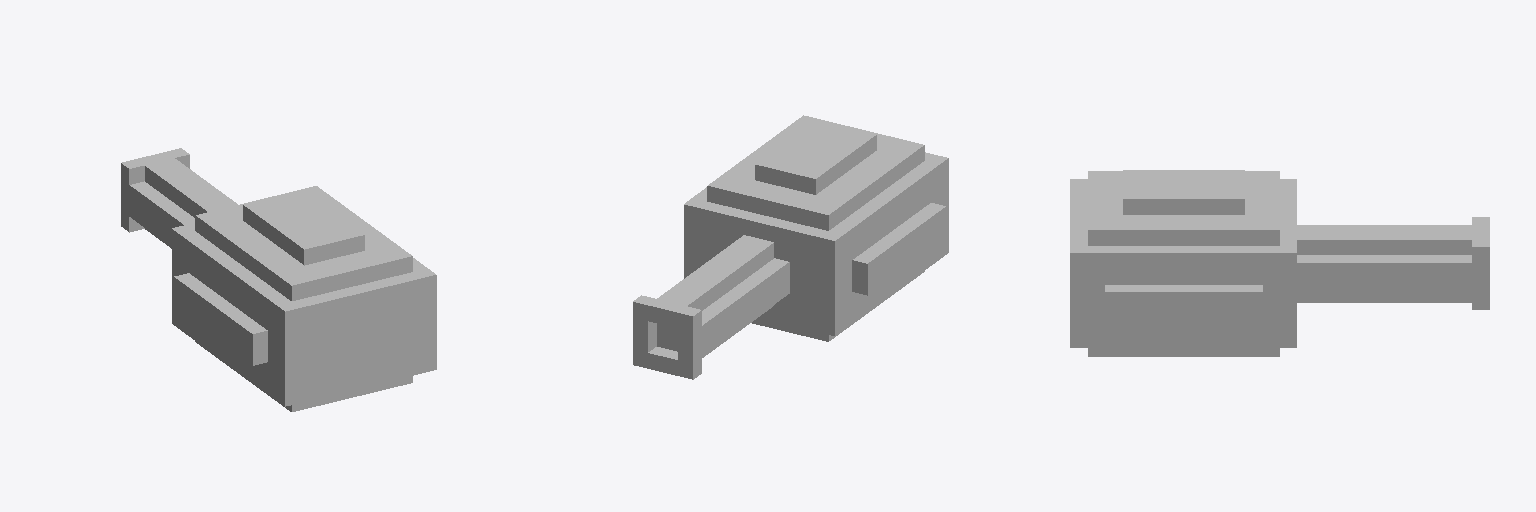
File: red tank bovenkant-0.obj
3 views of the same model, side by side, from view 1: azimuth 30°, elevation 25°; view 2: azimuth 150°, elevation 25°; view 3: azimuth 270°, elevation 25° (orthographic).
Parts seen in each view (by area): view 1: object 1; view 2: object 1; view 3: object 1.
Boxes of the visible parts, x1,y1,x2,y2 form: object 1: [121, 148, 436, 411]; object 1: [633, 115, 948, 379]; object 1: [1070, 170, 1489, 356].
Size of the model in its own units: 1.2 by 0.9 by 2.4.